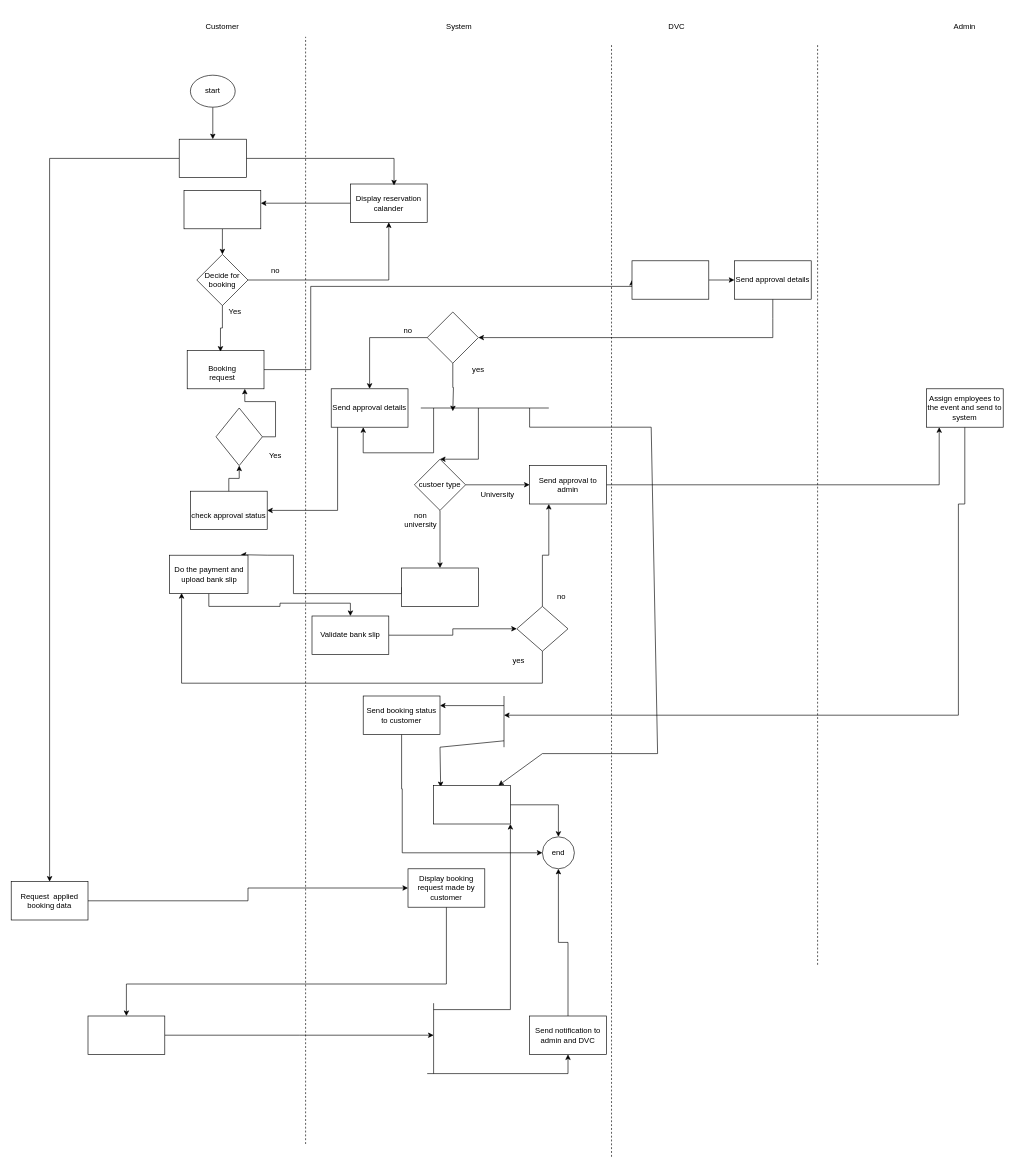
This 1014x1169 diagram has some shape labels left out. Here are the shapes that lost their labels. From the top down, the centre of each, then its label:
(212,158): Login
(222,209): Check available dates
(670,279): Check request
(452,337): is approved
(238,436): if canceled
(439,586): Send payment methods
(542,628): errors?
(471,804): Update System calander
(126,1034): Cancel booking
